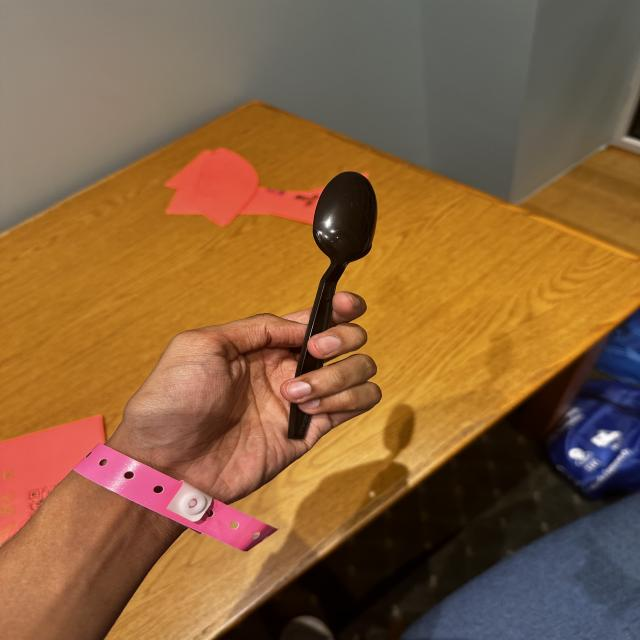spoon: (256, 135, 396, 460)
